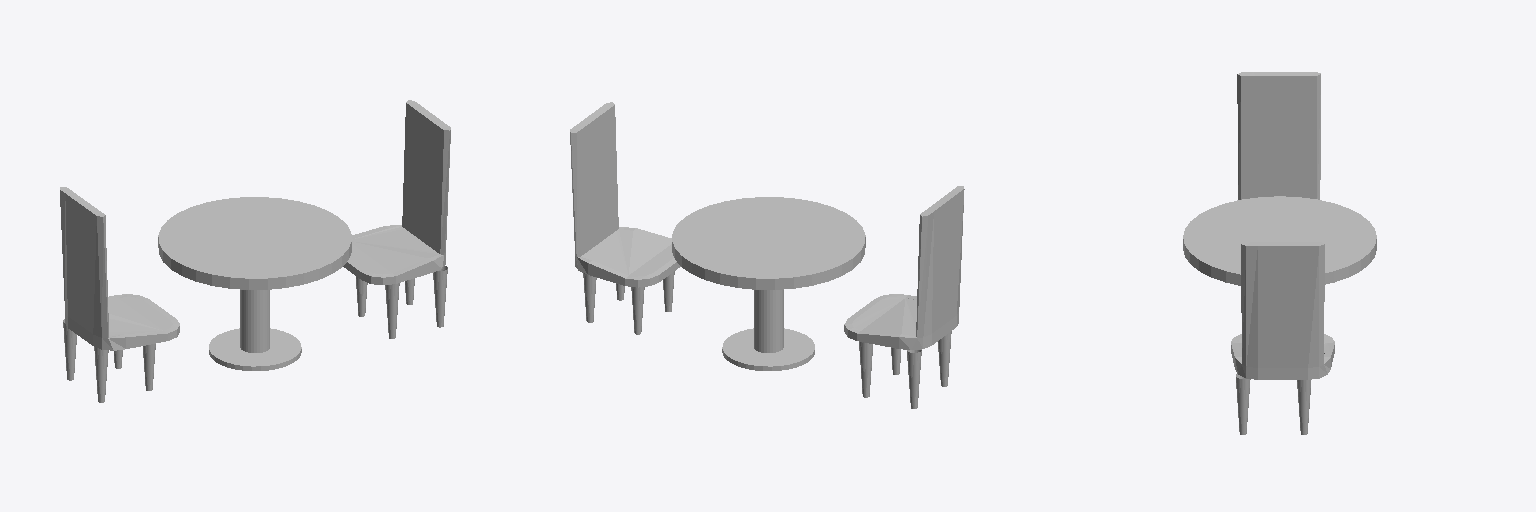
The model's file is table_4.obj.
3 views of the same model, side by side, from view 1: azimuth 30°, elevation 25°; view 2: azimuth 150°, elevation 25°; view 3: azimuth 270°, elevation 25° (orthographic).
Visible parts, largest first — view 1: table.003, Cube.040, Cube.041, Cylinder.089, Cylinder.091, Cylinder.094, Cylinder.093; view 2: table.003, Cube.040, Cube.041, Cylinder.093, Cylinder.095; view 3: Cube.040, table.003, Cube.041, Cylinder.089, Cylinder.090.
Part boxes in pixels (bbox=[...]): table.003: bbox=[158, 197, 351, 370]; Cube.040: bbox=[343, 100, 450, 284]; Cube.041: bbox=[60, 187, 179, 350]; Cylinder.089: bbox=[433, 266, 447, 327]; Cylinder.091: bbox=[385, 283, 399, 338]; Cylinder.094: bbox=[94, 347, 108, 402]; Cylinder.093: bbox=[63, 319, 76, 380]; table.003: bbox=[672, 197, 865, 370]; Cube.040: bbox=[570, 102, 680, 287]; Cube.041: bbox=[844, 186, 964, 349]; Cylinder.093: bbox=[907, 350, 921, 408]; Cylinder.095: bbox=[859, 342, 872, 397]; Cube.040: bbox=[1231, 242, 1334, 379]; table.003: bbox=[1183, 196, 1376, 285]; Cube.041: bbox=[1237, 72, 1320, 200]; Cylinder.089: bbox=[1236, 374, 1250, 434]; Cylinder.090: bbox=[1297, 380, 1310, 434].
Bounding box in the file's own units: 30.41 × 15.81 × 14.32.